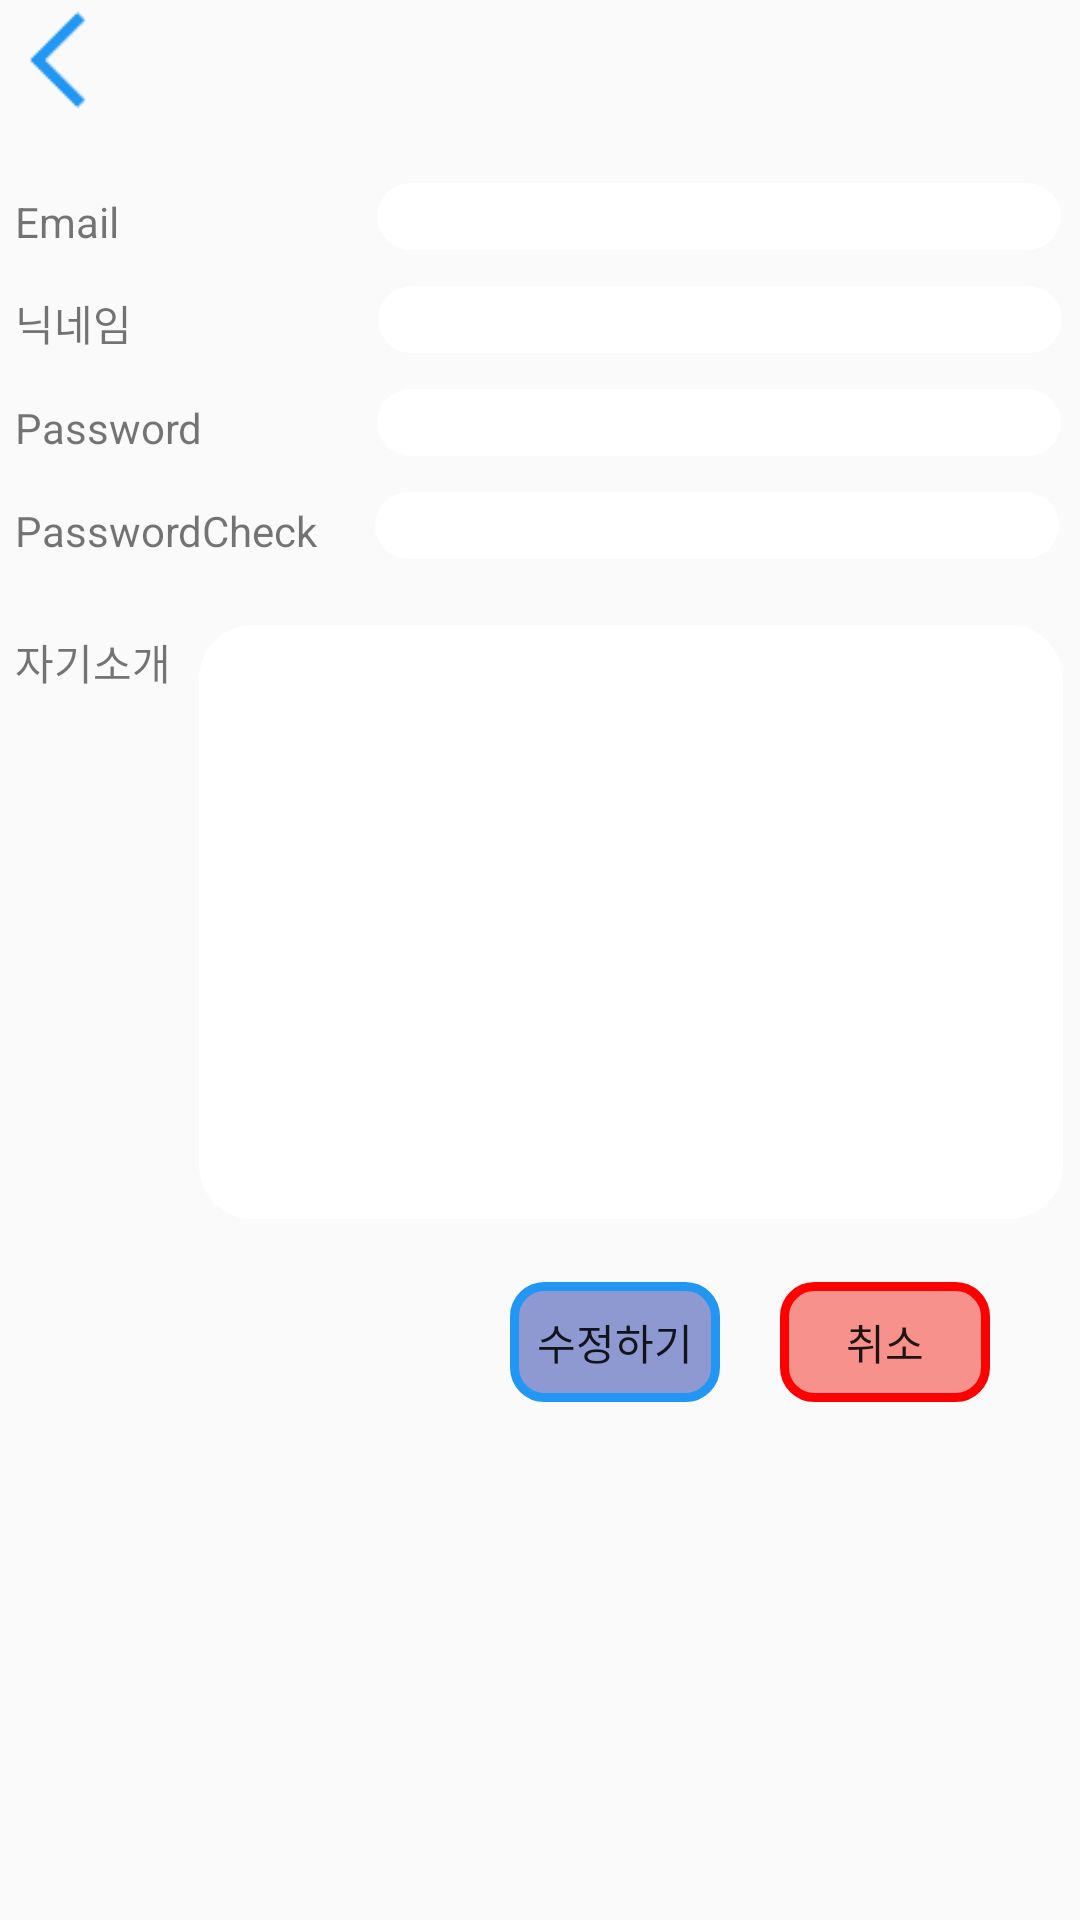

Named icons in this screenshot (1080x1920) and their centers, (x,y):
back: (58,60)
